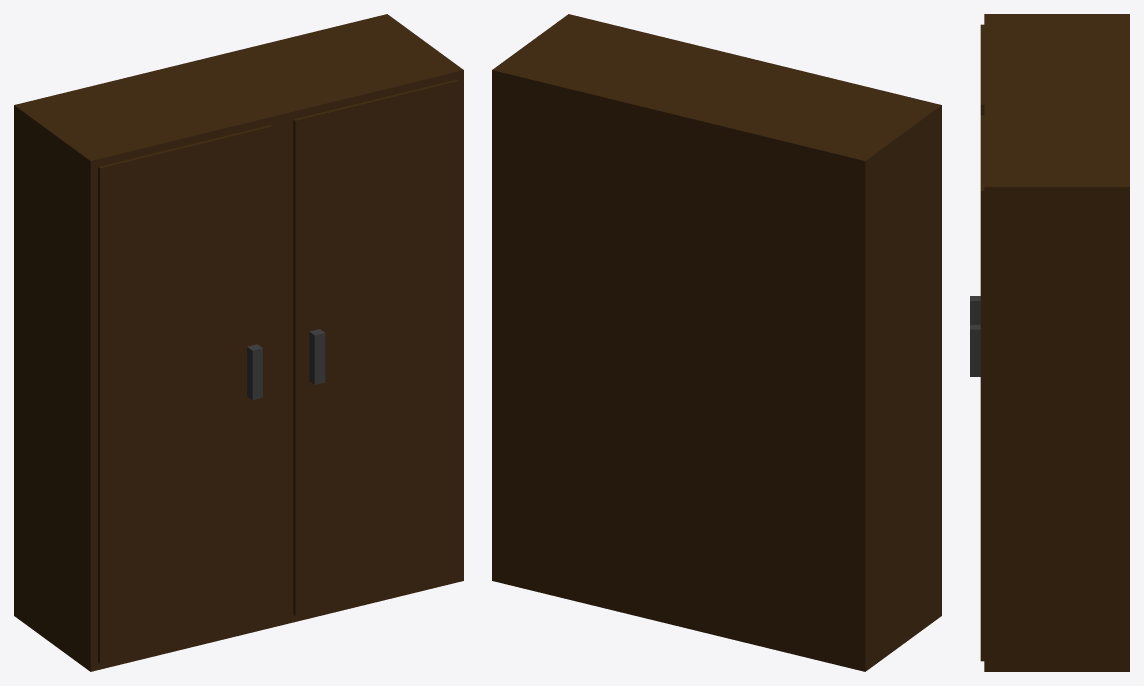
File: SM_Dresser.FBX
3 renders of one model, left to right at view 1: azimuth 30°, elevation 25°; view 2: azimuth 150°, elevation 25°; view 3: azimuth 270°, elevation 25°, orthographic. The views are drawn at different scales.
Visible parts, largest first — view 1: dresser001; view 2: dresser001; view 3: dresser001.
Boxes of the visible parts, x1,y1,x2,y2 form: dresser001: (14, 14, 463, 671); dresser001: (492, 14, 941, 671); dresser001: (970, 14, 1129, 671).
Size of the model in its own units: 65 by 85 by 25.36.
